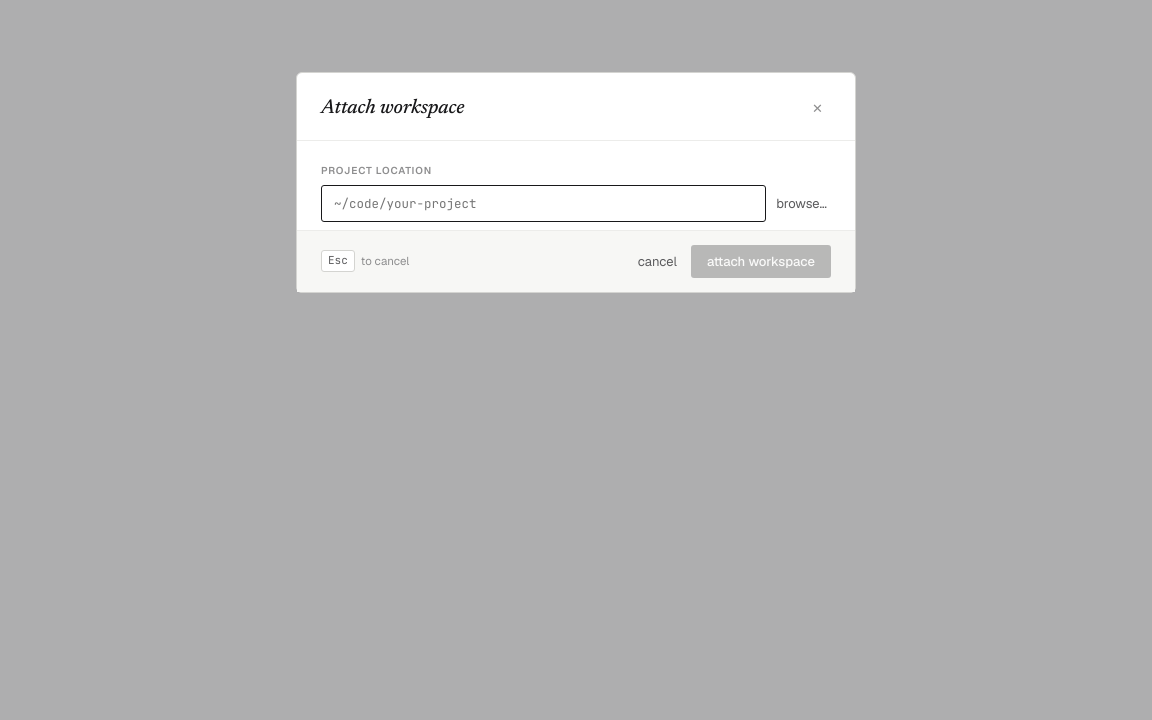
Test: AttachWorkspaceDialog hasSdd detection for typed paths (WI-ui-020) › shows "Existing .sdd/ detected" when server reports hasSdd: true for a typed path
In the field with placeholder "~/code/your-project": point(544, 203) [321, 184, 766, 222], type "/existing/sdd/project"
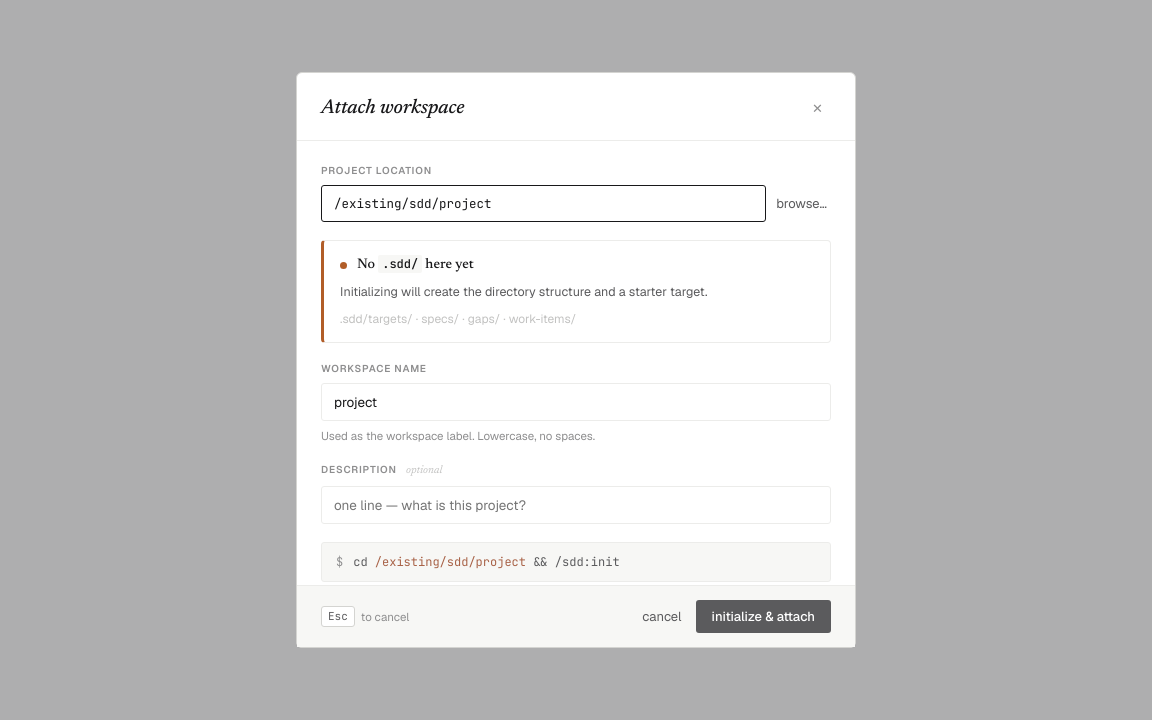
Expected: the element with class "dlg-preview" is shown, [321, 240, 831, 343]
Expected: the element with class "dlg-preview" shows ".sdd/", [382, 256, 418, 272]
